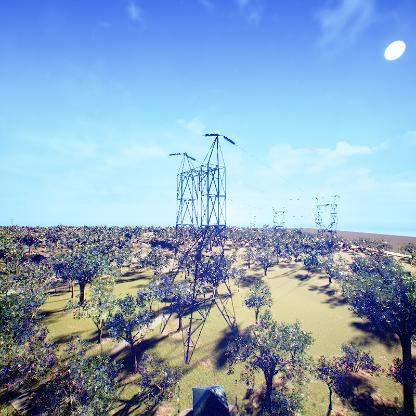tower: (158, 133, 242, 368)
